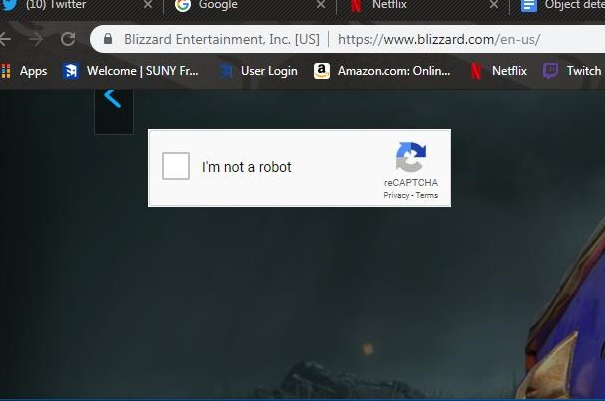captcha: (162, 152, 295, 180)
